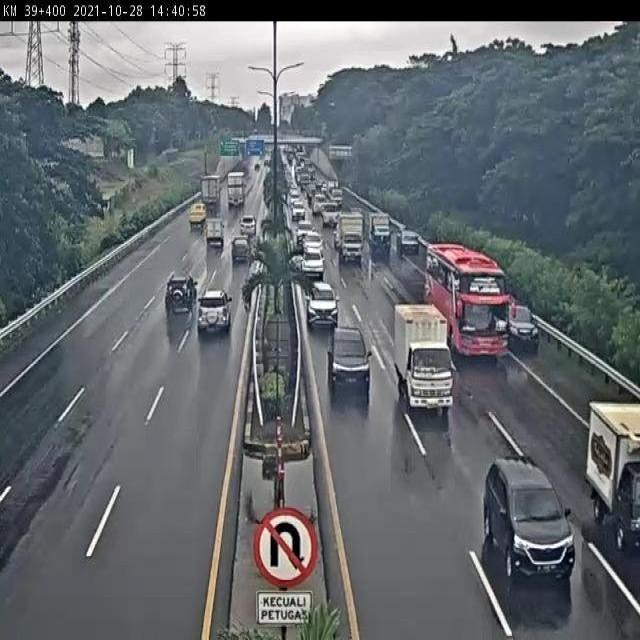bus-l-: (426, 245, 509, 358)
car: (481, 458, 576, 578), (328, 322, 372, 390), (197, 286, 233, 334), (304, 281, 340, 328), (503, 301, 539, 347), (163, 271, 199, 316), (301, 247, 325, 280), (230, 233, 253, 266)
truck-m-: (391, 304, 454, 411)
